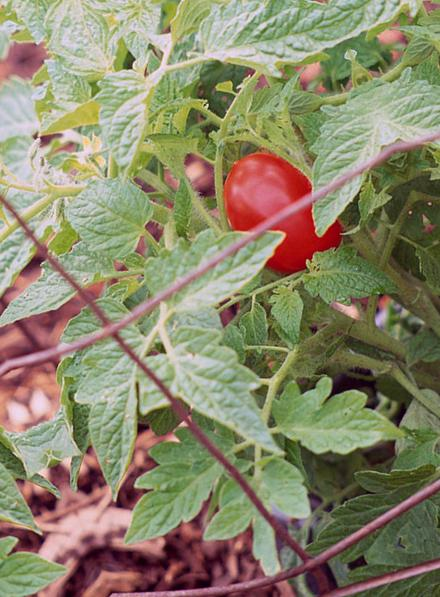Tomato leaf: (45, 316, 216, 505), (130, 297, 292, 483), (267, 75, 413, 233), (252, 354, 404, 495), (287, 443, 440, 581), (86, 418, 239, 555), (188, 0, 350, 109), (147, 211, 294, 324), (53, 159, 163, 277), (286, 223, 403, 330), (0, 200, 73, 323), (43, 15, 144, 98)
